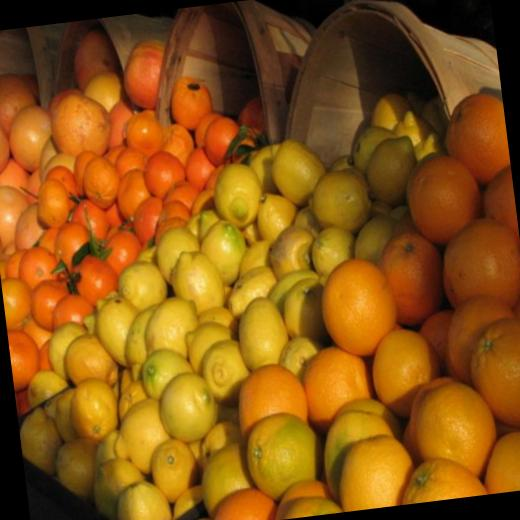Grape: (132, 90, 520, 520), (0, 7, 293, 414)
